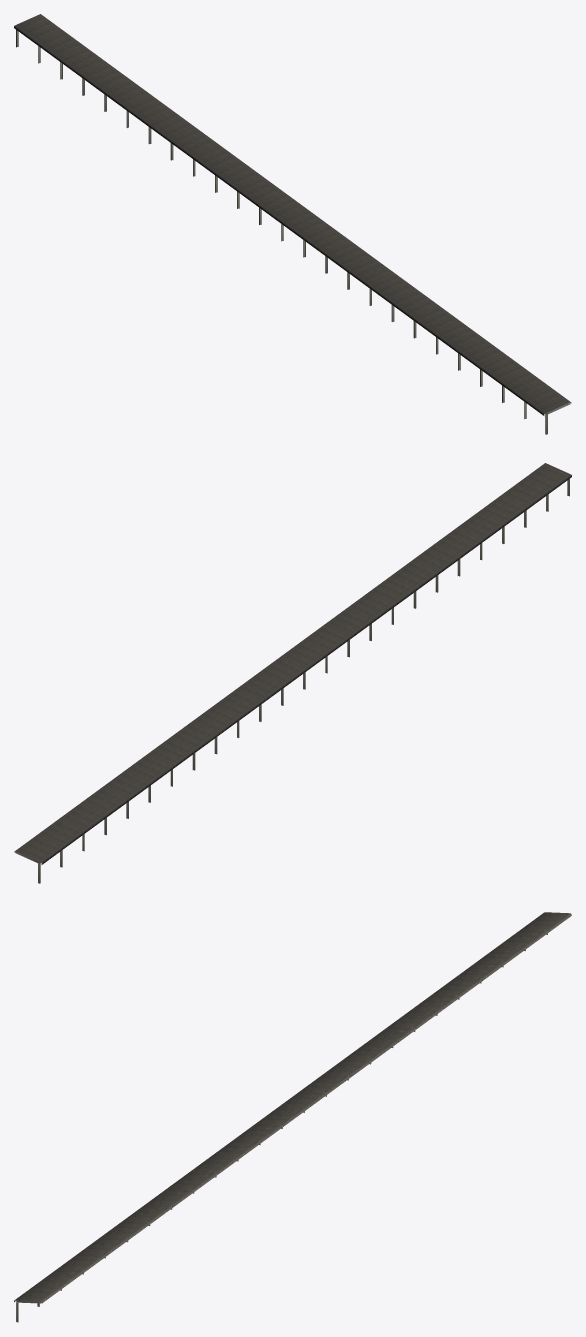
File: ST_YANE_R_24BONE.glb
The picture shows the model from 3 angles, top to bottom: view 1: azimuth 30°, elevation 25°; view 2: azimuth 150°, elevation 25°; view 3: azimuth 330°, elevation 25°; orthographic projection.
Visible parts, largest first — view 1: obj17; view 2: obj17; view 3: obj17.
Part boxes in pixels (x1=…): obj17: x1=14, y1=14, x2=571, y2=415; obj17: x1=14, y1=463, x2=571, y2=864; obj17: x1=14, y1=912, x2=571, y2=1303.
Size of the model in its own units: 9.08 by 8.42 by 300.
27 materials, 27 textured.
